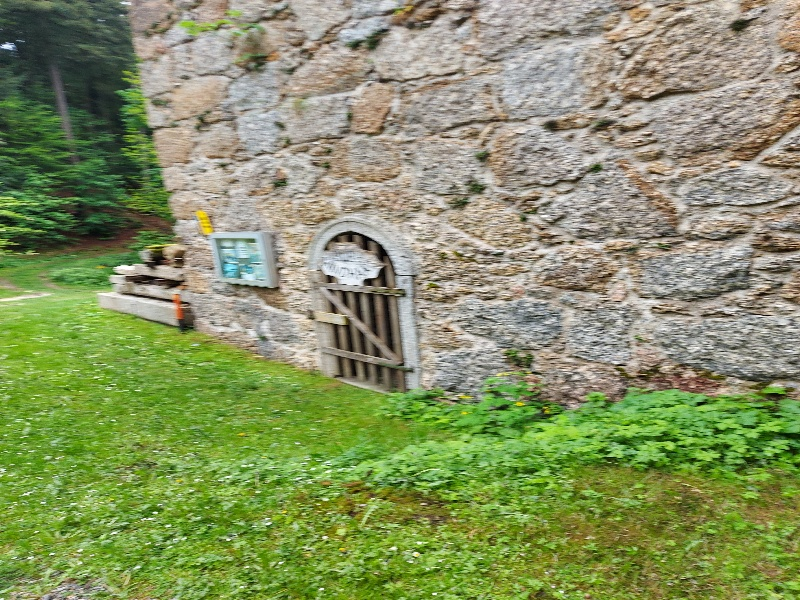dungeon: (290, 209, 440, 409)
